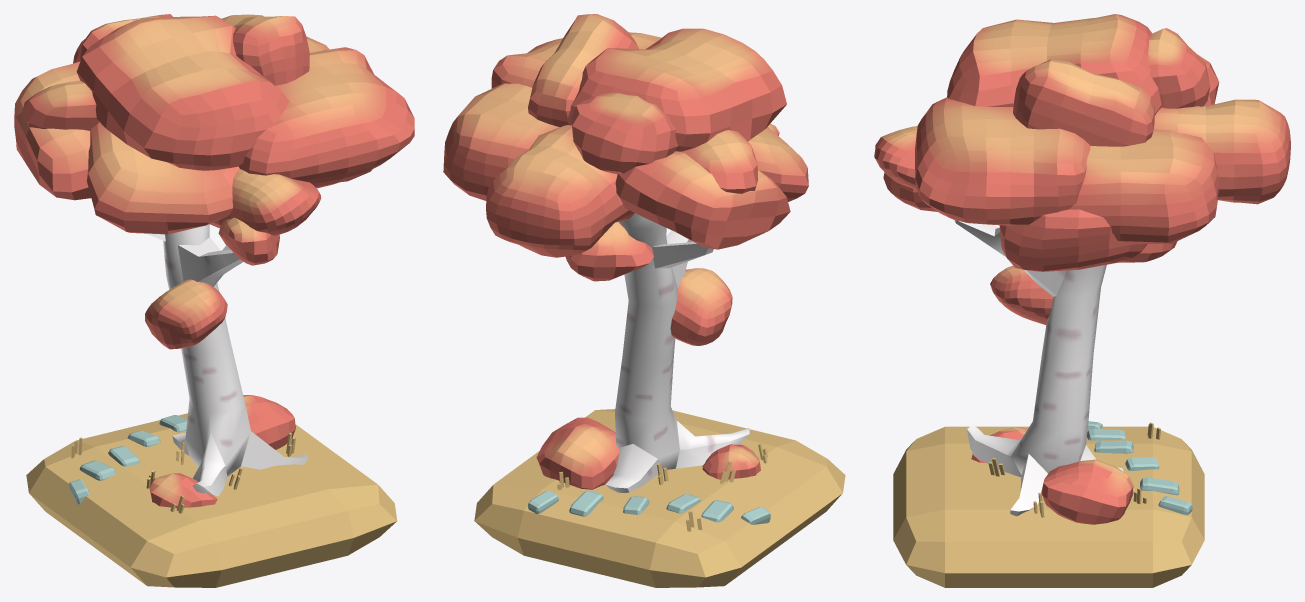
Rendered from birch tree.fbx.
3 views of the same model, side by side, from view 1: azimuth 30°, elevation 25°; view 2: azimuth 150°, elevation 25°; view 3: azimuth 270°, elevation 25° (orthographic). The views are drawn at different scales.
Visible parts, largest first — view 1: pPlane1, pCube7, pCube11, pCube1, pCube12, pCube4, pCube2, pCube15, pCube3, pCube5, pasted__pCube8, pCube6 (+2 smaller); view 2: pPlane1, pCube1, pCube7, pCube9, pCube4, pCube13, pCube10, pCube15, pasted__pCube8, pCube3, pCube5, pCube8 (+4 smaller); view 3: pPlane1, pCube11, pCube1, pCube13, pCube7, pCube15, pCube9, pCube14, pasted__pCube8, pCube10, pCube3, pCube2 (+2 smaller).
Boxes of the visible parts, x1,y1,x2,y2 form: pPlane1: (26,413,397,587); pCube7: (76,15,289,170); pCube11: (239,47,414,188); pCube1: (147,224,308,496); pCube12: (87,123,239,234); pCube4: (14,61,91,200); pCube2: (209,169,321,235); pCube15: (221,14,309,85); pCube3: (145,279,227,349); pCube5: (22,80,99,130); pasted__pCube8: (243,395,295,449); pCube6: (218,217,279,265); pPlane1: (474,409,845,587); pCube1: (605,213,749,492); pCube7: (567,28,786,151); pCube9: (486,125,634,257); pCube4: (615,151,790,249); pCube13: (443,83,559,200); pCube10: (571,93,678,174); pCube15: (528,14,638,126); pasted__pCube8: (536,417,619,489); pCube3: (670,268,732,345); pCube5: (682,130,758,193); pCube8: (565,222,653,281); pPlane1: (893,426,1204,587); pCube11: (915,97,1090,226); pCube1: (954,220,1123,516); pCube13: (1070,129,1218,243); pCube7: (947,14,1161,115); pCube15: (1013,59,1154,146); pCube9: (1153,99,1290,204); pCube14: (999,209,1146,271); pasted__pCube8: (1041,459,1133,524); pCube10: (1148,28,1210,108); pCube3: (990,265,1053,324); pCube2: (874,126,917,189).
Bounding box in the file's own units: 4.82 × 7.16 × 5.35.
Materials: 29 (1 with a texture image).
